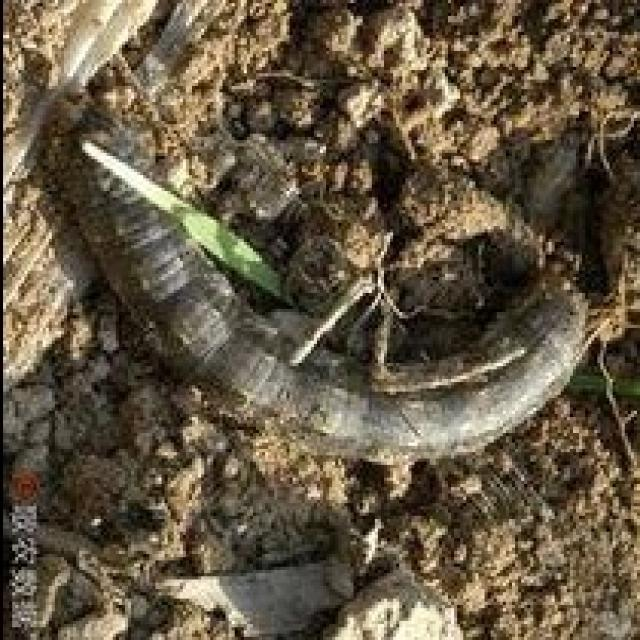black cutworm: (56, 103, 604, 485)
